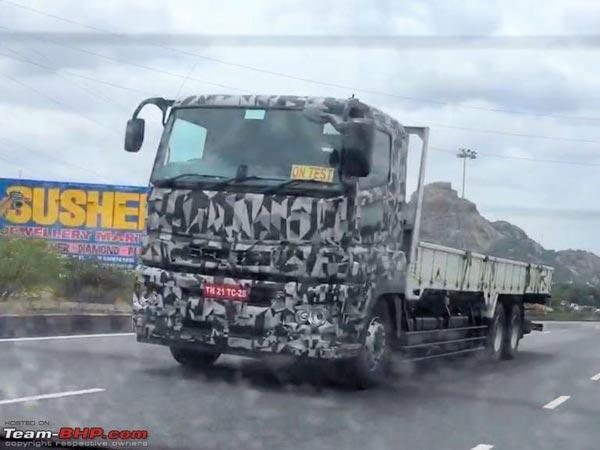truck: (110, 72, 553, 390)
